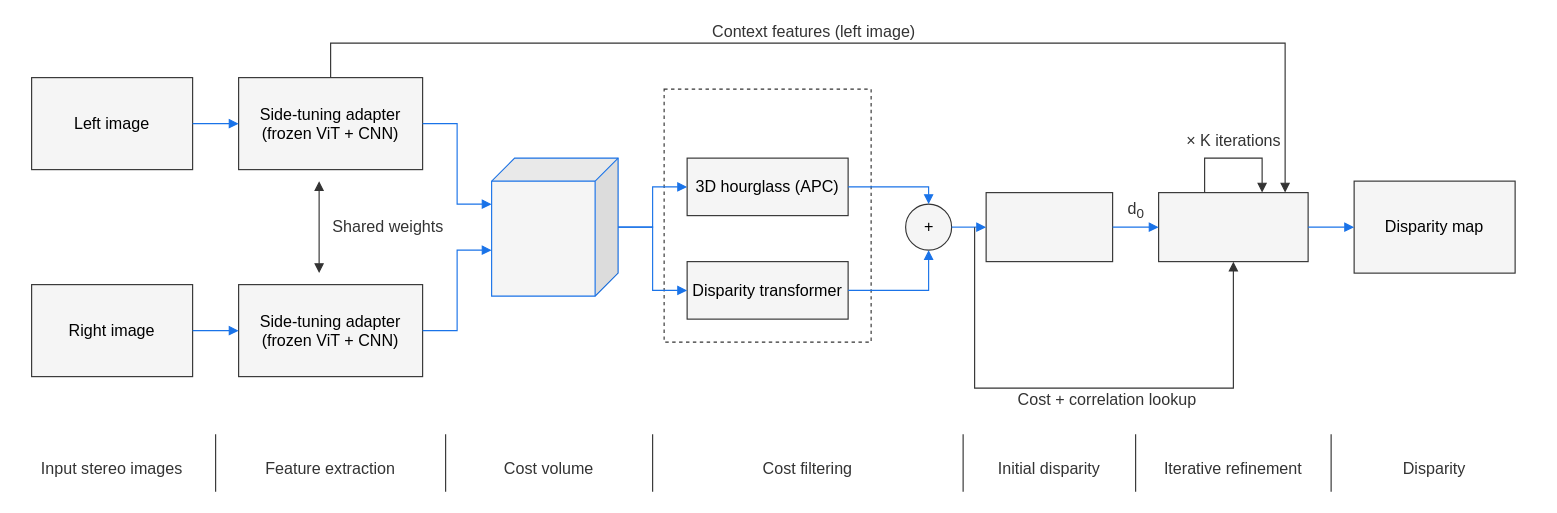
This 1557x513 diagram has some shape labels left out. Here are the shapes that lost their labels. From the top down, the box of each, then its label:
(490, 157, 618, 296): Hybrid cost volume
(663, 88, 871, 342): Attentive hybrid cost filtering
(985, 191, 1113, 262): Soft-argmin
(1157, 191, 1308, 262): ConvGRU refinement
